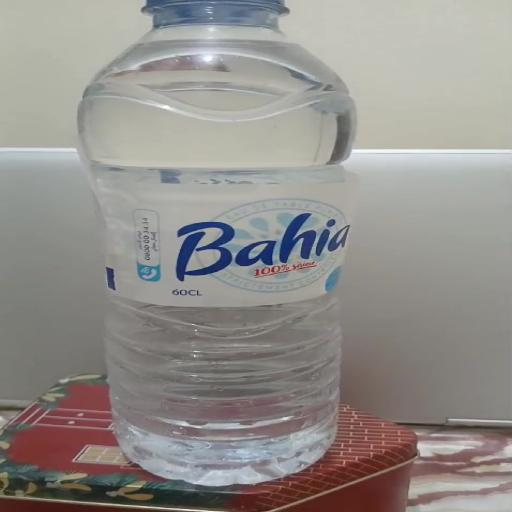bouteille conformite: (86, 0, 338, 486)
